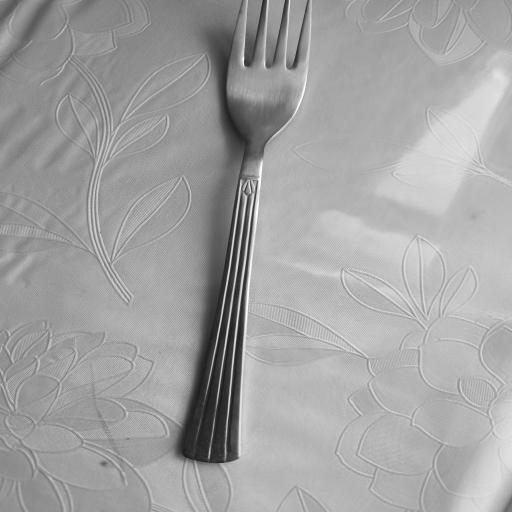fork: (177, 0, 314, 468)
